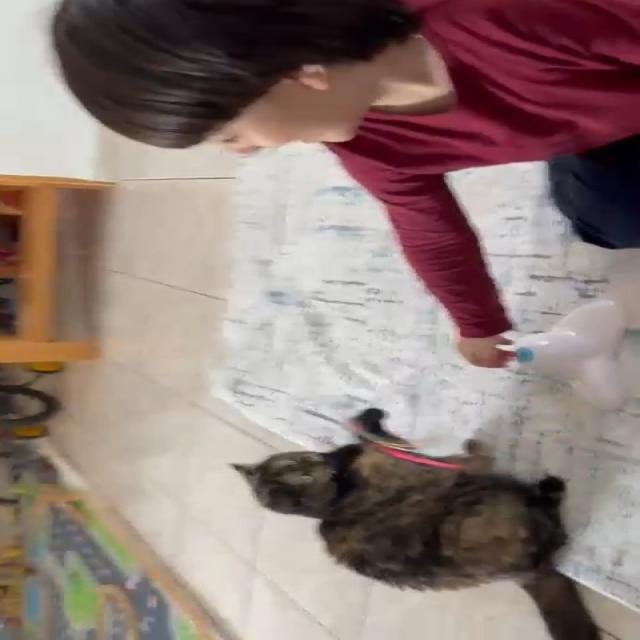authorized: (228, 436, 599, 639)
